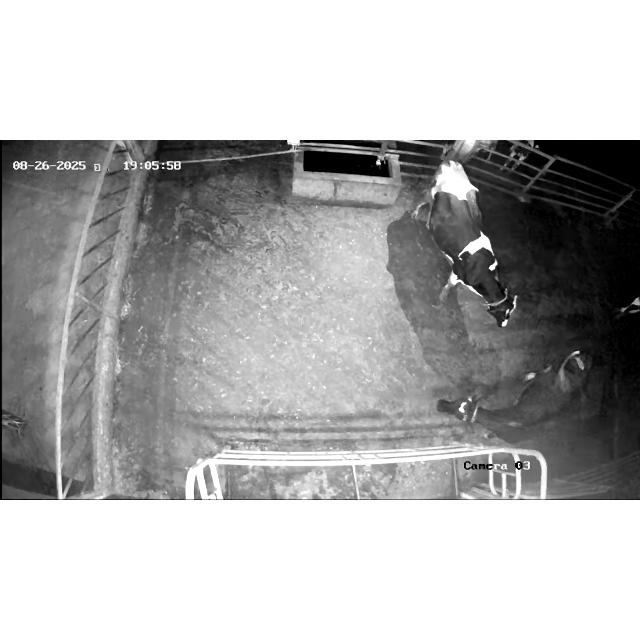stand: (408, 152, 520, 338), (410, 344, 598, 444)
